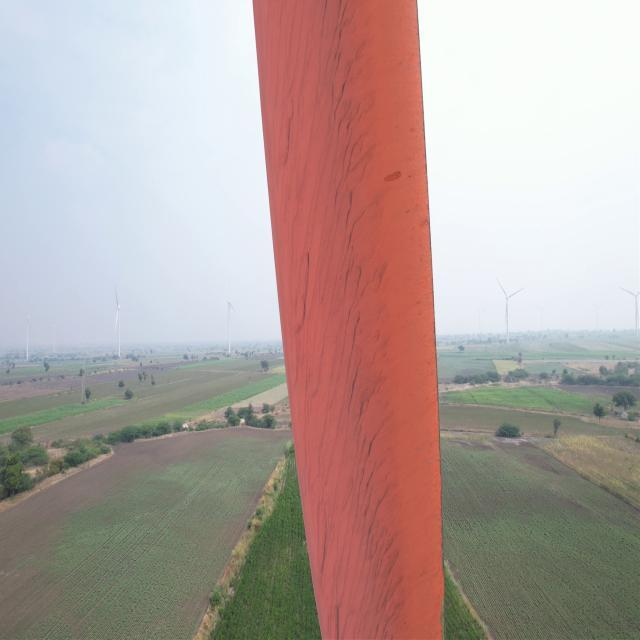Dirt: (251, 0, 447, 635)
